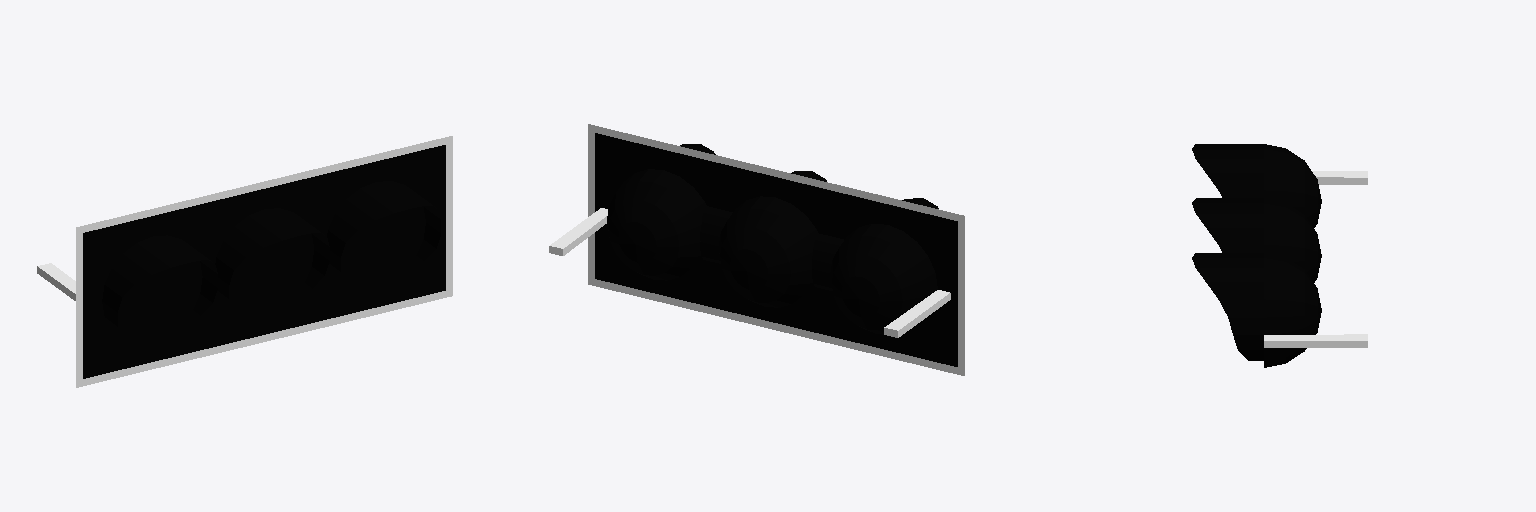
The model's file is TLS6_horizontal.obj.
The picture shows the model from 3 angles: view 1: azimuth 30°, elevation 25°; view 2: azimuth 150°, elevation 25°; view 3: azimuth 270°, elevation 25°; orthographic projection.
Bounding box in the file's own units: 3.38 × 1.38 × 1.37.